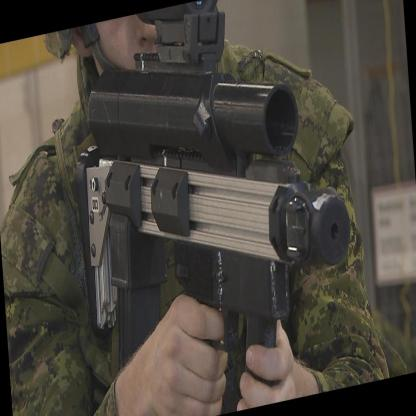rifle: (64, 22, 356, 362)
